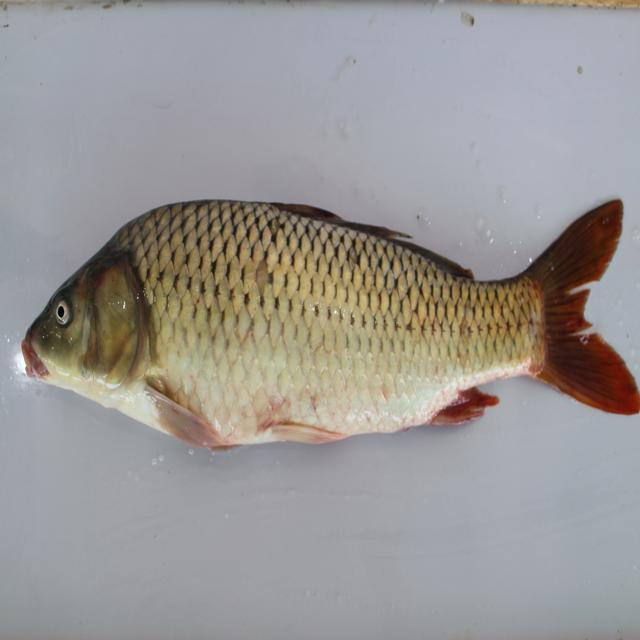Grass Carp: (21, 197, 640, 452)
